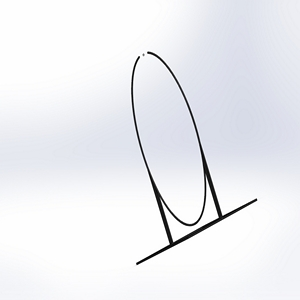circle: (127, 48, 259, 267)
